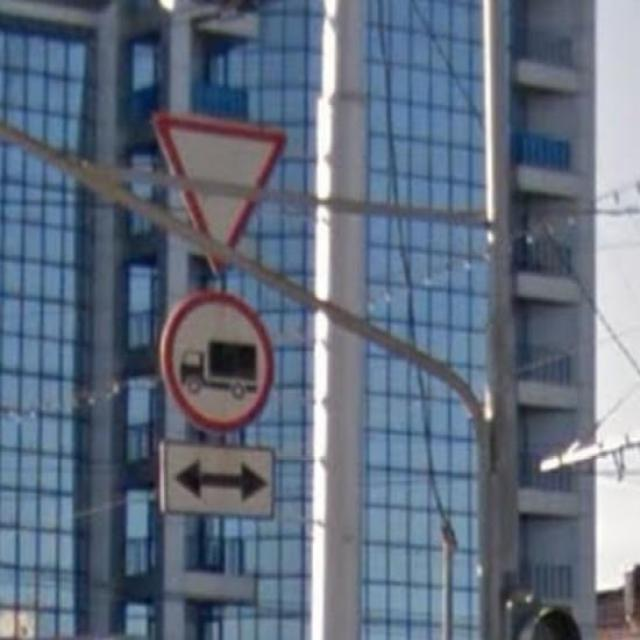Ustap pierwszenstwa: (146, 105, 290, 279)
